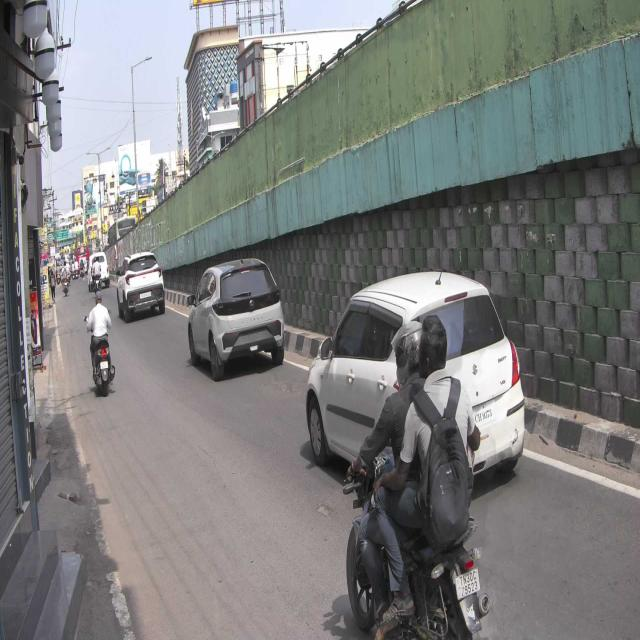double_rider: (340, 308, 496, 640)
